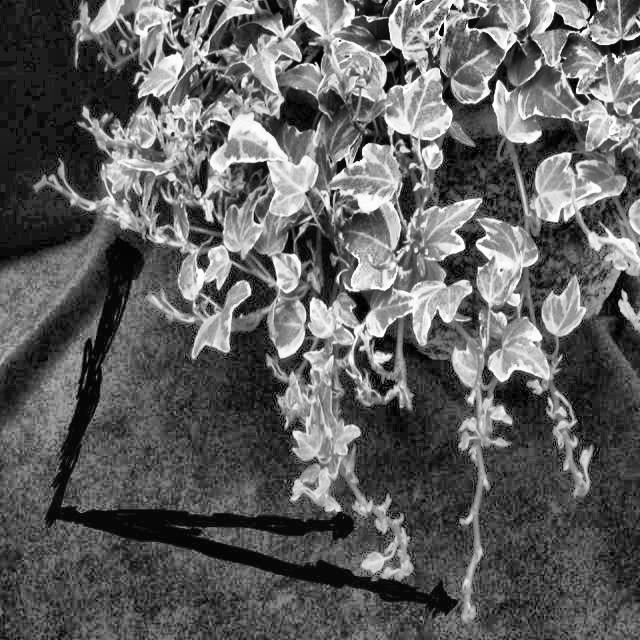plants: (40, 1, 640, 634), (258, 271, 422, 587), (450, 298, 598, 630)
